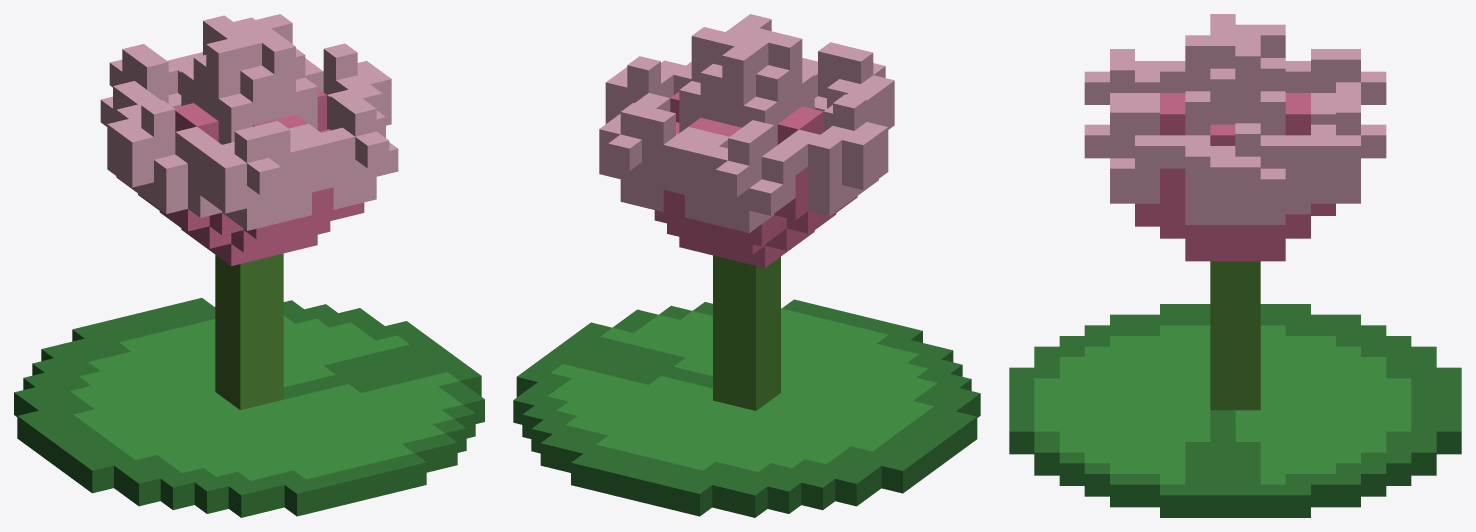
File: lotus.glb
3 renders of one model, left to right at view 1: azimuth 30°, elevation 25°; view 2: azimuth 150°, elevation 25°; view 3: azimuth 270°, elevation 25°, orthographic.
Parts seen in each view (by area): view 1: prop; view 2: prop; view 3: prop.
Part boxes in pixels (<box>): prop: <box>14,14,484,517</box>; prop: <box>513,14,980,517</box>; prop: <box>1009,14,1461,517</box>.
Size of the model in its own units: 15.88 by 15 by 15.88.
